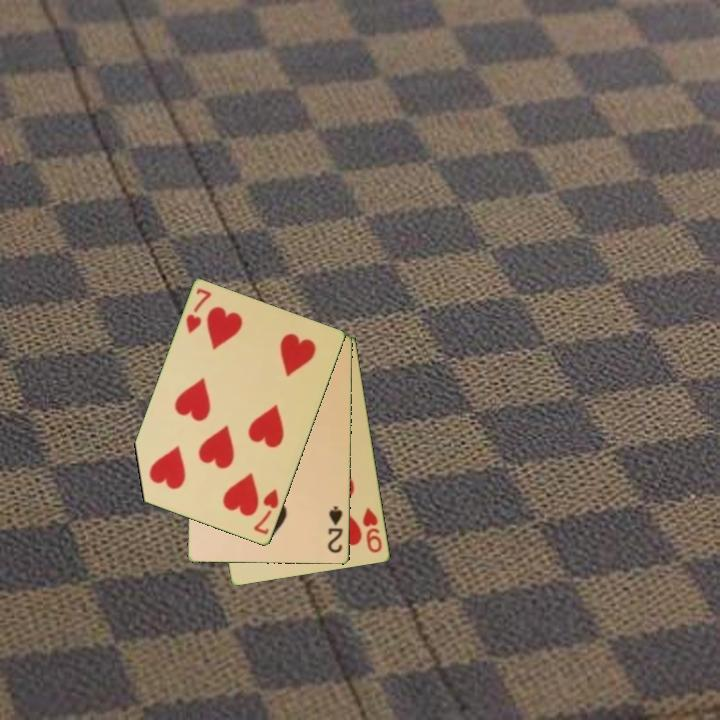2s: (324, 503, 346, 556)
7h: (250, 485, 282, 538), (183, 285, 215, 337)
9h: (359, 504, 385, 556)
